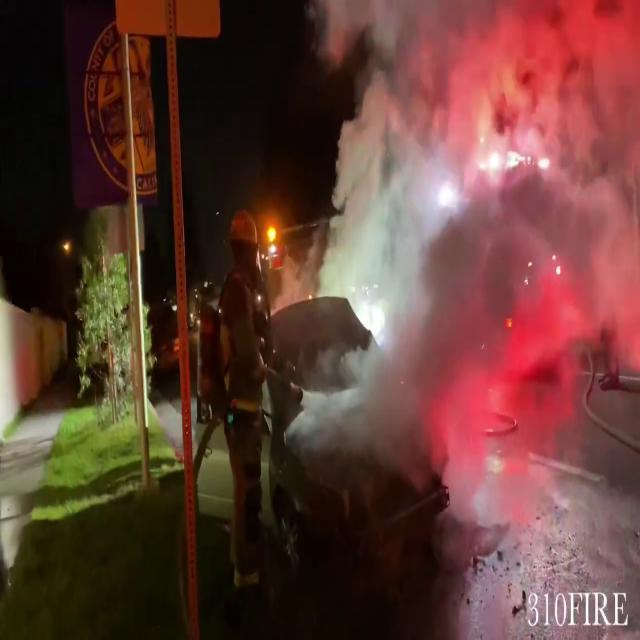Smoke: (293, 0, 640, 497)
